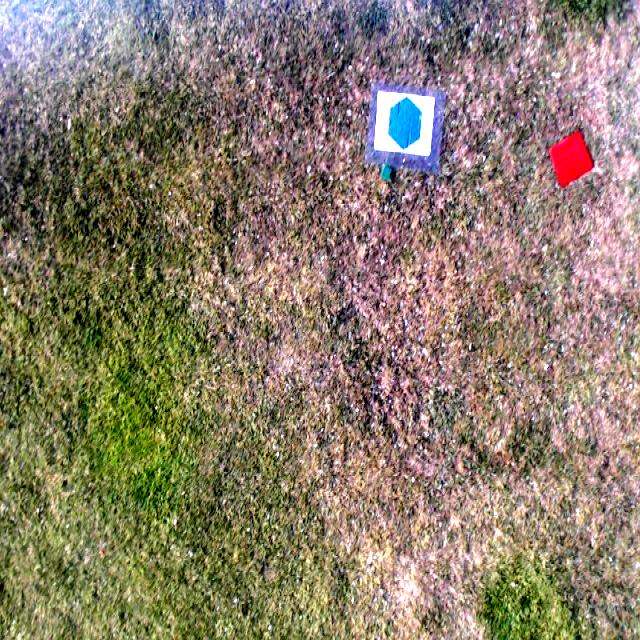blue_hexagon: (387, 93, 424, 151)
red_square: (549, 130, 595, 187)
